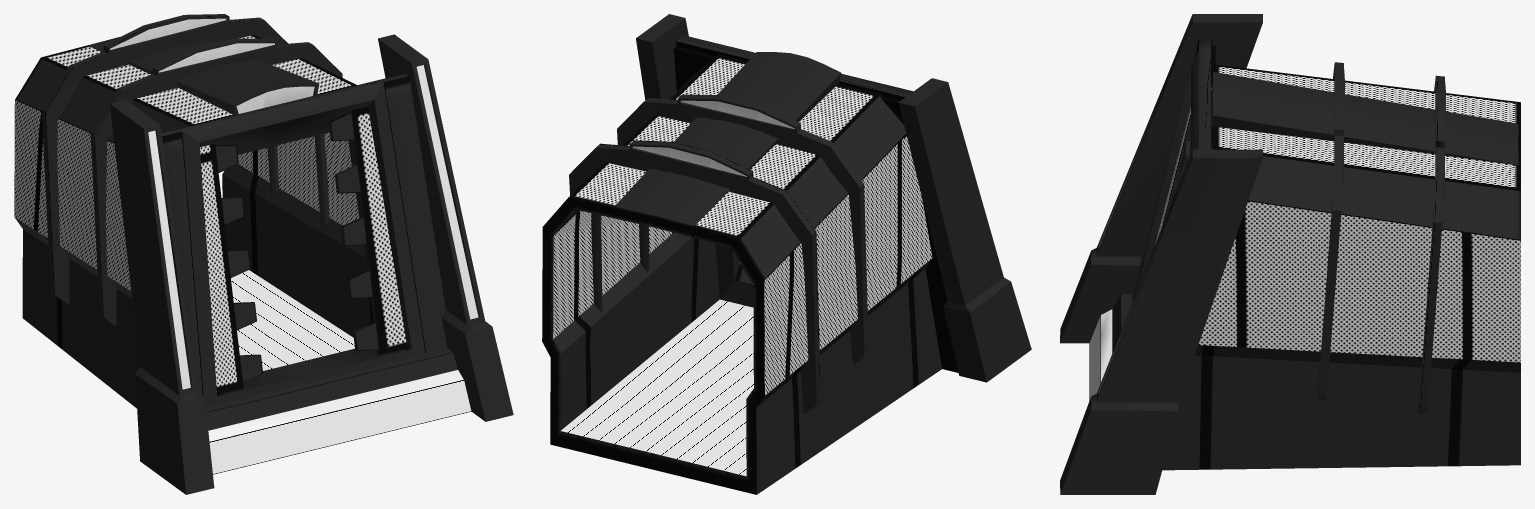
The model's file is ExteriorDoor_Art.fbx.
3 renders of one model, left to right at view 1: azimuth 30°, elevation 25°; view 2: azimuth 150°, elevation 25°; view 3: azimuth 270°, elevation 25°, orthographic. The views are drawn at different scales.
Visible parts, largest first — view 1: ExteriorDoor_Art; view 2: ExteriorDoor_Art; view 3: ExteriorDoor_Art.
Part boxes in pixels (x1,y1,x2,y2): ExteriorDoor_Art: (14, 14, 513, 494); ExteriorDoor_Art: (542, 14, 1031, 494); ExteriorDoor_Art: (1060, 14, 1520, 494).
Size of the model in its own units: 8.23 by 7.54 by 9.66.
